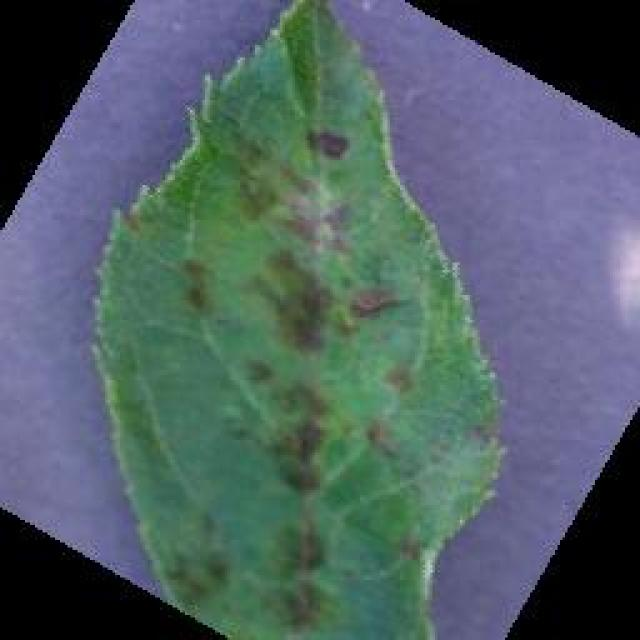apple scab disease: (88, 0, 508, 638)
